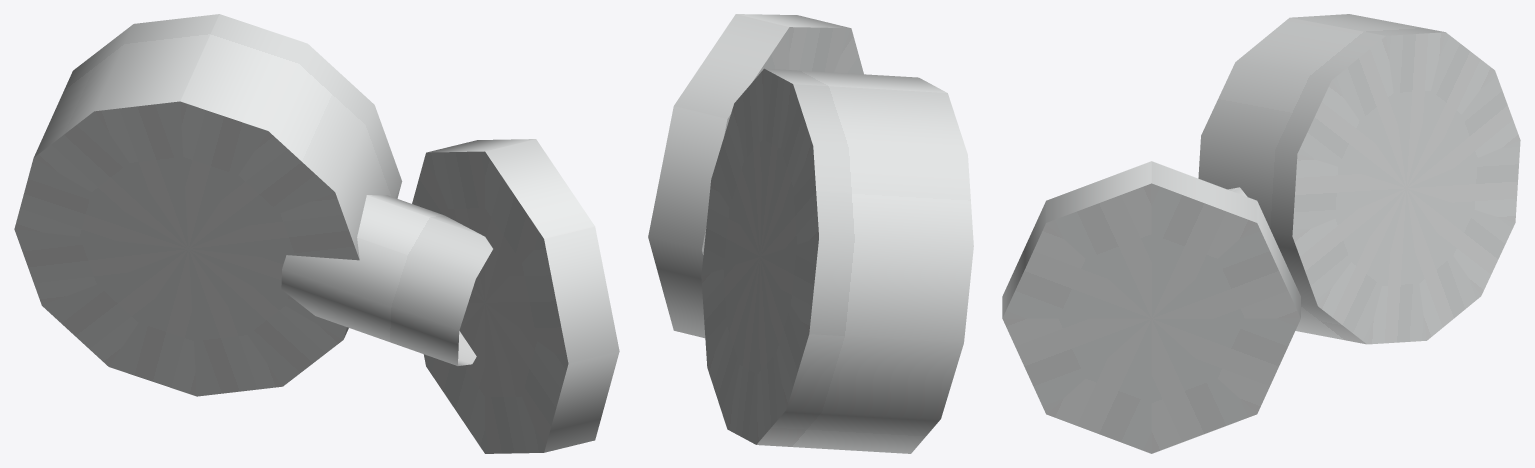
Rendered from nycsignalarm_stub_107.obj.
3 renders of one model, left to right at view 1: azimuth 30°, elevation 25°; view 2: azimuth 150°, elevation 25°; view 3: azimuth 270°, elevation 25°, orthographic. The views are drawn at different scales.
Visible parts, largest first — view 1: nycsignalarm_stub_107; view 2: nycsignalarm_stub_107; view 3: nycsignalarm_stub_107.
Boxes of the visible parts, x1,y1,x2,y2 form: nycsignalarm_stub_107: (14,14,619,453); nycsignalarm_stub_107: (648,14,973,453); nycsignalarm_stub_107: (1002,14,1520,453).
Bounding box in the file's own units: 0.4474 × 0.4361 × 0.6074.
